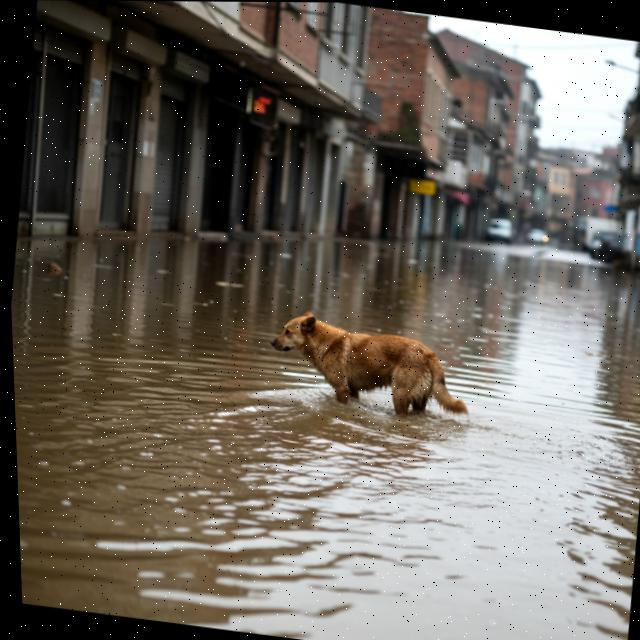dog: (251, 291, 489, 435)
